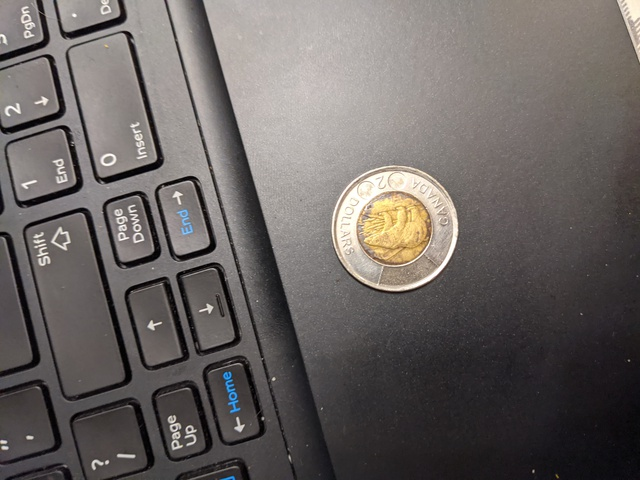twonie: (320, 148, 464, 305)
